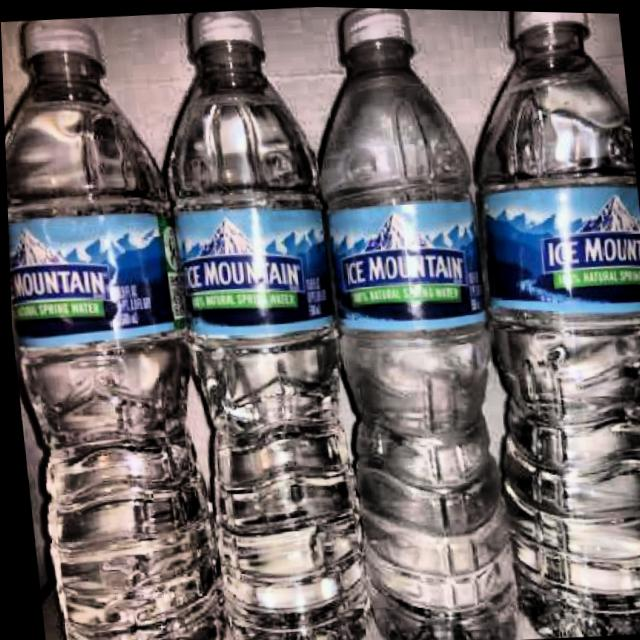Bottles: (289, 5, 530, 640), (0, 12, 232, 640), (151, 4, 370, 640), (462, 8, 640, 638)
